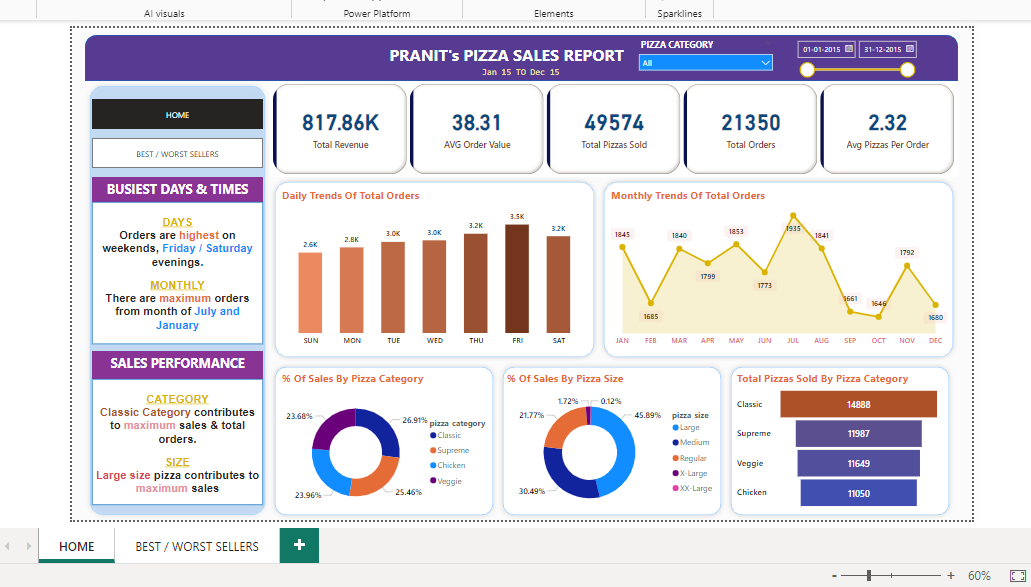

The dashboard page shown, as its layout file describes it:
{"tool":"powerbi","page":{"name":"HOME","canvas":[1500,820],"ordinal":0},"visuals":[{"type":"shape","box":[21.7,88.3,308.3,731.7],"z":0},{"type":"cardVisual","fields":{"Data":["pizza_sales.Total Revenue","pizza_sales.AVG Order Value","pizza_sales.Total Pizzas Sold","pizza_sales.Total Orders","pizza_sales.Avg Pizzas Per Order"]},"box":[330,88.3,1146.7,160],"z":1000},{"type":"shape","box":[21.7,11.7,1455,76.7],"z":2000},{"type":"textbox","box":[486.7,21.7,475,56.7],"z":3000},{"type":"textbox","box":[678.3,60,158.3,28.3],"z":4000},{"type":"shape","box":[330,248.3,548.3,308.3],"z":5000},{"type":"columnChart","title":"Daily Trends Of Total Orders","fields":{"Category":["pizza_sales.Order Day"],"Y":["pizza_sales.Total Orders"]},"box":[345,266.7,520,271.7],"z":6000},{"type":"shape","box":[878.3,248.3,598.3,308.3],"z":7000},{"type":"areaChart","title":"Monthly Trends Of Total Orders","fields":{"Y":["pizza_sales.Total Orders"],"Category":["pizza_sales.Order Month"]},"box":[893.3,266.7,570,271.7],"z":8000},{"type":"shape","box":[330,556.7,380,263.3],"z":9000},{"type":"shape","box":[710,556.7,380,263.3],"z":10000},{"type":"shape","box":[1090,556.7,380,263.3],"z":11000},{"type":"donutChart","title":"% Of Sales By Pizza Category","fields":{"Category":["pizza_sales.pizza_category"],"Y":["pizza_sales.Total Revenue"]},"box":[345,571.7,365,248.3],"z":12000},{"type":"donutChart","title":"% Of Sales By Pizza Size","fields":{"Y":["pizza_sales.Total Revenue"],"Category":["pizza_sales.pizza_size"]},"box":[720,571.7,365,248.3],"z":13000},{"type":"funnel","title":"Total Pizzas Sold By Pizza Category","fields":{"Category":["pizza_sales.pizza_category"],"Y":["pizza_sales.Total Pizzas Sold"]},"box":[1103.3,571.7,348.3,235],"z":14000},{"type":"textbox","box":[33.3,248.3,285,41.7],"z":15000},{"type":"textbox","box":[33.3,290,285,236.7],"z":15001},{"type":"textbox","box":[33.3,538.3,285,46.7],"z":15002},{"type":"textbox","box":[33.3,585,285,210],"z":15003},{"type":"slicer","fields":{"Values":["pizza_sales.pizza_category"]},"box":[935,11.7,243.3,70],"z":15004},{"type":"slicer","fields":{"Values":["pizza_sales.order_date"]},"box":[1196.7,11.7,216.7,76.7],"z":15005},{"type":"pageNavigator","box":[33.3,118.3,285,50],"z":15006},{"type":"pageNavigator","box":[33.3,183.3,285,50],"z":15007}]}

Visuals, with their boxes on the page's 1500x820 design canvas (x1, y1, x2, y2). These are canvas units, not pixel positions in the 1031x587 screenshot, which may show the page scaled, cropped or inside an application window:
shape: [left=22, top=88, right=330, bottom=820]
cardVisual - pizza_sales.Total Revenue x pizza_sales.AVG Order Value: [left=330, top=88, right=1477, bottom=248]
shape: [left=22, top=12, right=1477, bottom=88]
textbox: [left=487, top=22, right=962, bottom=78]
textbox: [left=678, top=60, right=837, bottom=88]
shape: [left=330, top=248, right=878, bottom=557]
"Daily Trends Of Total Orders" columnChart: [left=345, top=267, right=865, bottom=538]
shape: [left=878, top=248, right=1477, bottom=557]
"Monthly Trends Of Total Orders" areaChart: [left=893, top=267, right=1463, bottom=538]
shape: [left=330, top=557, right=710, bottom=820]
shape: [left=710, top=557, right=1090, bottom=820]
shape: [left=1090, top=557, right=1470, bottom=820]
"% Of Sales By Pizza Category" donutChart: [left=345, top=572, right=710, bottom=820]
"% Of Sales By Pizza Size" donutChart: [left=720, top=572, right=1085, bottom=820]
"Total Pizzas Sold By Pizza Category" funnel: [left=1103, top=572, right=1452, bottom=807]
textbox: [left=33, top=248, right=318, bottom=290]
textbox: [left=33, top=290, right=318, bottom=527]
textbox: [left=33, top=538, right=318, bottom=585]
textbox: [left=33, top=585, right=318, bottom=795]
slicer - pizza_sales.pizza_category: [left=935, top=12, right=1178, bottom=82]
slicer - pizza_sales.order_date: [left=1197, top=12, right=1413, bottom=88]
pageNavigator: [left=33, top=118, right=318, bottom=168]
pageNavigator: [left=33, top=183, right=318, bottom=233]
